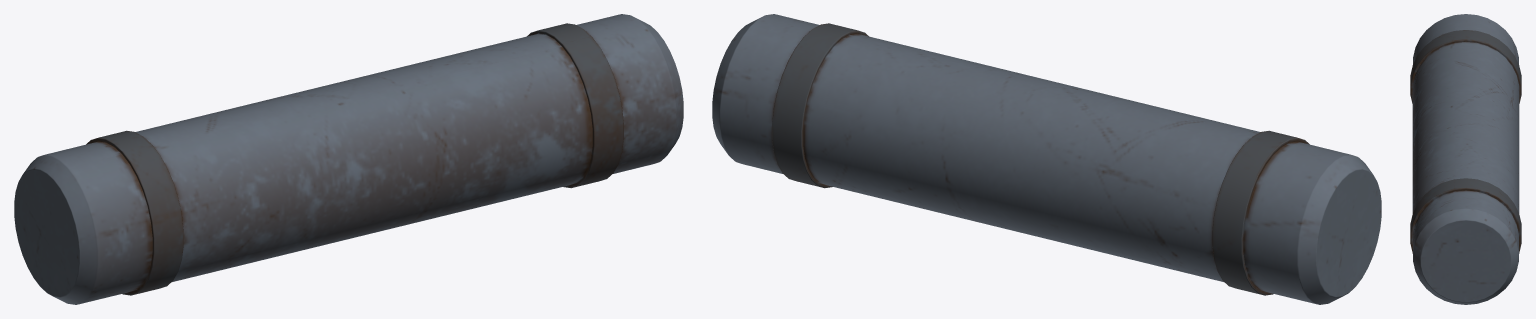
Rendered from SM_VentilatorPipeBig.fbx.
The picture shows the model from 3 angles, left to right: view 1: azimuth 30°, elevation 25°; view 2: azimuth 150°, elevation 25°; view 3: azimuth 270°, elevation 25°; orthographic projection. The views are drawn at different scales.
Parts seen in each view (by area): view 1: SM_VentilatorPipeBig_LOD0; view 2: SM_VentilatorPipeBig_LOD0; view 3: SM_VentilatorPipeBig_LOD0.
Part boxes in pixels (x1=…): SM_VentilatorPipeBig_LOD0: x1=14, y1=14, x2=683, y2=304; SM_VentilatorPipeBig_LOD0: x1=712, y1=14, x2=1381, y2=304; SM_VentilatorPipeBig_LOD0: x1=1410, y1=14, x2=1521, y2=304.
Size of the model in its own units: 168 by 38.65 by 38.86.
1 material, 1 textured.
